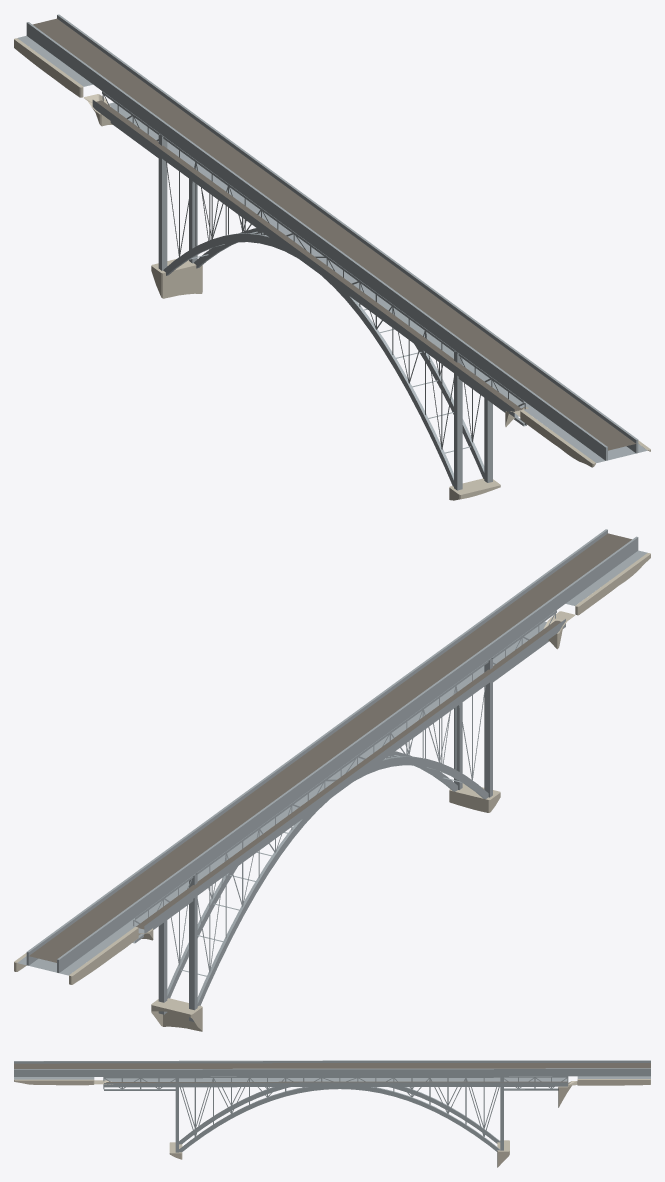
File: niagara-whirlpool-rapids-bridge.glb
The picture shows the model from 3 angles, top to bottom: view 1: azimuth 30°, elevation 25°; view 2: azimuth 150°, elevation 25°; view 3: azimuth 270°, elevation 25°; orthographic projection. The views are drawn at different scales.
Visible parts, largest first — view 1: Whirlpool Rapids Bridge; view 2: Whirlpool Rapids Bridge; view 3: Whirlpool Rapids Bridge.
Boxes of the visible parts, bbox=[...] form: Whirlpool Rapids Bridge: bbox=[14, 14, 650, 500]; Whirlpool Rapids Bridge: bbox=[14, 529, 650, 1031]; Whirlpool Rapids Bridge: bbox=[14, 1060, 650, 1167].
Size of the model in its own units: 19.3 by 55.85 by 330.
